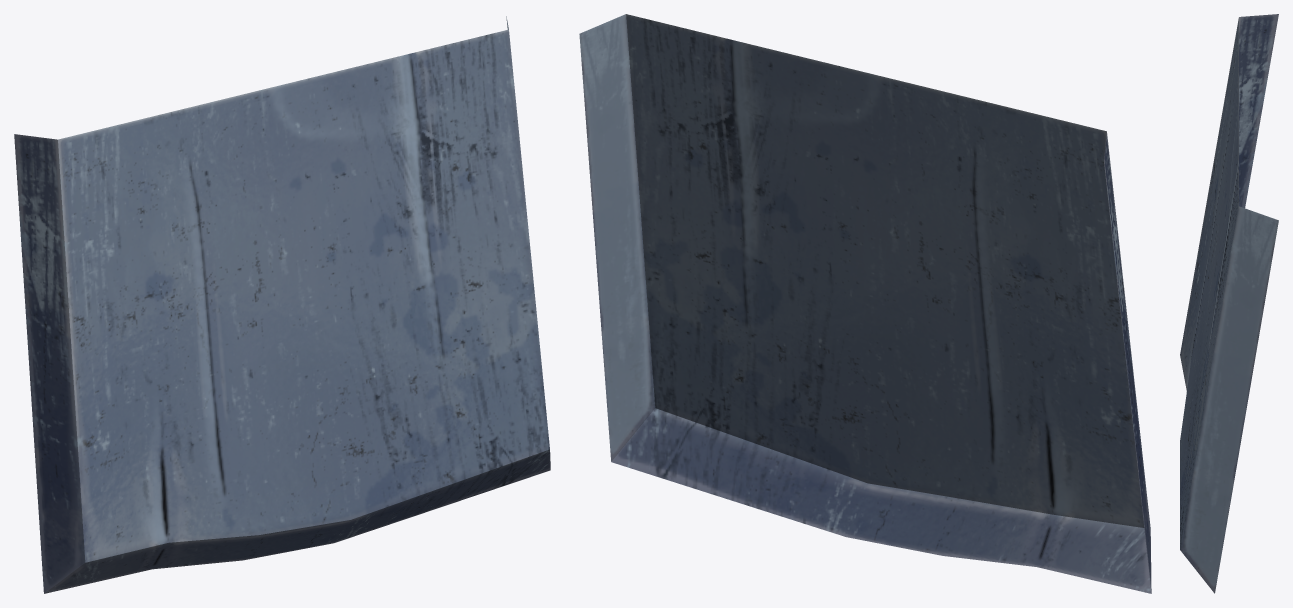
Rendered from envRoofTiles_01.fbx.
3 renders of one model, left to right at view 1: azimuth 30°, elevation 25°; view 2: azimuth 150°, elevation 25°; view 3: azimuth 270°, elevation 25°, orthographic. The views are drawn at different scales.
Parts seen in each view (by area): view 1: envRoofTiles_01; view 2: envRoofTiles_01; view 3: envRoofTiles_01.
Part boxes in pixels (box(x1,y1,x2,y2)): envRoofTiles_01: box(14, 16, 550, 593); envRoofTiles_01: box(579, 14, 1151, 593); envRoofTiles_01: box(1180, 14, 1278, 593).
Size of the model in its own units: 29 by 24.91 by 5.7.
